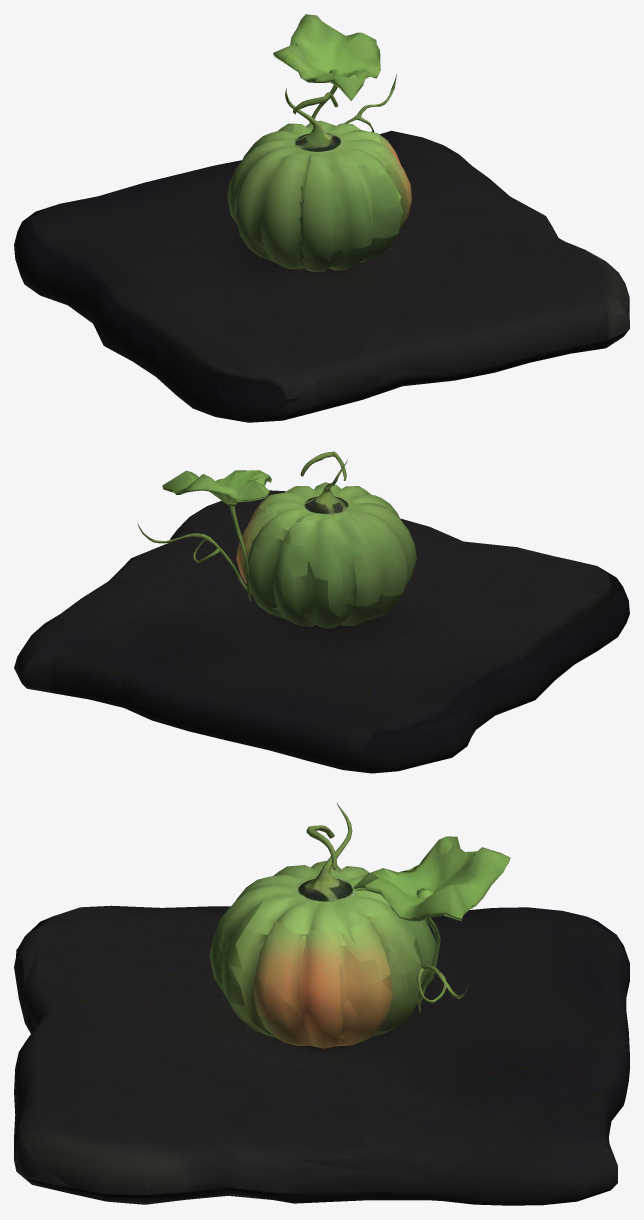
File: pumpkin_stage2.glb
3 views of the same model, one above another, from view 1: azimuth 30°, elevation 25°; view 2: azimuth 150°, elevation 25°; view 3: azimuth 270°, elevation 25° (orthographic). The views are drawn at different scales.
Parts seen in each view (by area): view 1: mesh_node; view 2: mesh_node; view 3: mesh_node.
Part boxes in pixels (<box>): mesh_node: <box>14,14,629,422</box>; mesh_node: <box>14,451,629,773</box>; mesh_node: <box>14,803,629,1205</box>.
Size of the model in its own units: 1 by 0.4834 by 1.
1 material, 1 textured.
